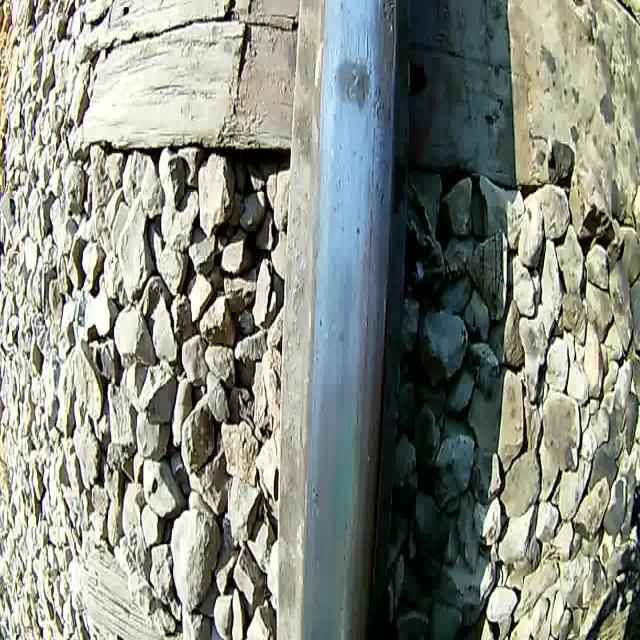Squats: (377, 0, 397, 129), (330, 54, 372, 115)
